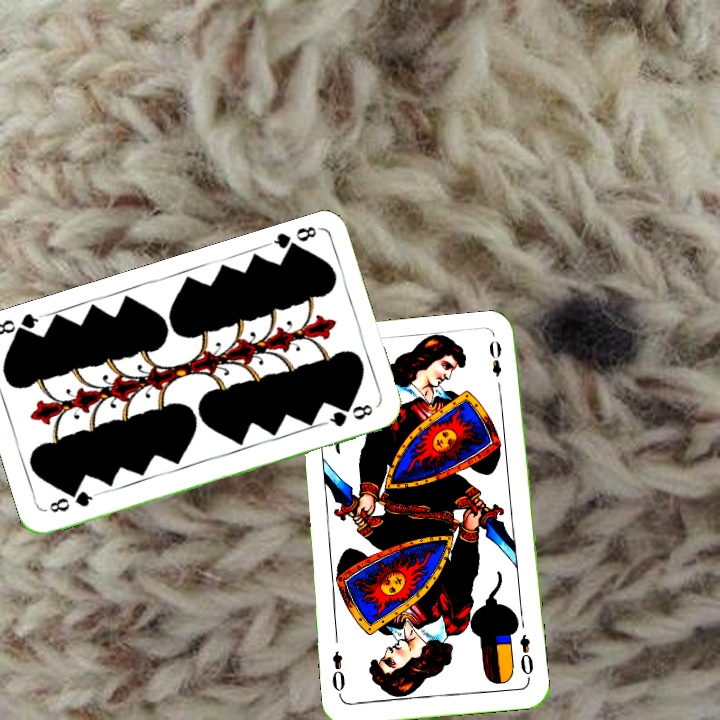EO: (516, 630, 536, 683)
G8: (264, 222, 322, 258), (45, 487, 100, 516)
